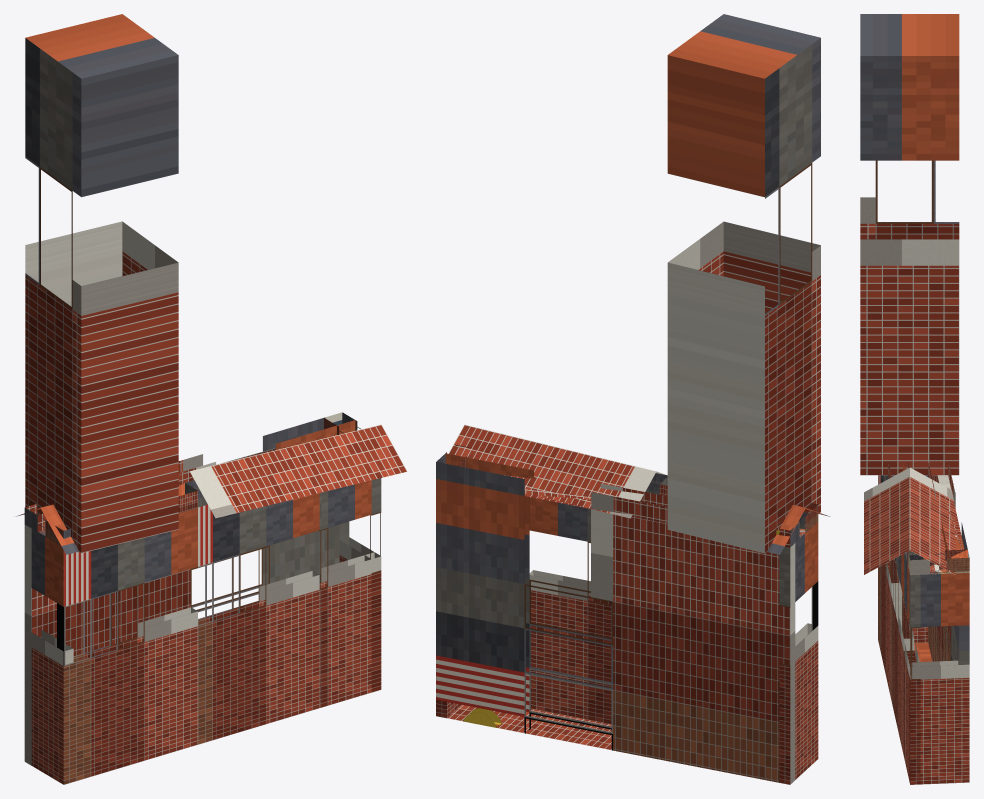
3 views of the same model, side by side, from view 1: azimuth 30°, elevation 25°; view 2: azimuth 150°, elevation 25°; view 3: azimuth 270°, elevation 25° (orthographic). The views are drawn at different scales.
Parts seen in each view (by area): view 1: 717954405__chimney_0_xb, 717954405__wall_0_xb, 717954405__wall_1_xb, 717954405__wall_4_xb, 717954405_roof_-1_xb, 717954405__wall_2_xb, 717954405__wall_5_xb, 717954405__cornice_4, 717954405__wall_3_xb; view 2: 717954405__chimney_0_xb, 717954405__wall_4_xb, 717954405__wall_1_xb, 717954405_roof_1_xb, 717954405__wall_5_xb, 717954405__cornice_4, 717954405__base; view 3: 717954405__chimney_0_xb, 717954405__wall_3_xb, 717954405_roof_-1_xb, 717954405_roof_1_xb, 717954405__wall_2_xb, 717954405__wall_1_xb, 717954405__wall_0_xb, 717954405__wall_4_xb, 717954405__cornice_3, 717954405__cornice_4, 717954405__cornice_2, 717954405__wall_5_xb (+1 smaller).
Boxes of the visible parts, <box> form: 717954405__chimney_0_xb: <box>25,14,178,553</box>; 717954405__wall_0_xb: <box>57,507,197,784</box>; 717954405__wall_1_xb: <box>197,493,319,744</box>; 717954405__wall_4_xb: <box>24,521,349,765</box>; 717954405_roof_-1_xb: <box>40,424,407,554</box>; 717954405__wall_2_xb: <box>319,480,381,707</box>; 717954405__wall_5_xb: <box>31,529,73,784</box>; 717954405__cornice_4: <box>24,412,355,531</box>; 717954405__wall_3_xb: <box>339,478,381,692</box>; 717954405__chimney_0_xb: <box>667,14,820,553</box>; 717954405__wall_4_xb: <box>436,479,795,784</box>; 717954405__wall_1_xb: <box>529,497,611,724</box>; 717954405_roof_1_xb: <box>448,424,805,554</box>; 717954405__wall_5_xb: <box>779,522,818,784</box>; 717954405__cornice_4: <box>436,453,799,547</box>; 717954405__base: <box>447,705,611,750</box>; 717954405__chimney_0_xb: <box>860,14,959,475</box>; 717954405__wall_3_xb: <box>909,569,969,784</box>; 717954405_roof_-1_xb: <box>864,467,909,574</box>; 717954405_roof_1_xb: <box>910,467,955,574</box>; 717954405__wall_2_xb: <box>904,552,920,784</box>; 717954405__wall_1_xb: <box>891,553,914,755</box>; 717954405__wall_0_xb: <box>878,475,901,700</box>; 717954405__wall_4_xb: <box>928,475,969,664</box>; 717954405__cornice_3: <box>908,549,969,574</box>; 717954405__cornice_4: <box>928,462,967,558</box>; 717954405__cornice_2: <box>905,550,929,575</box>; 717954405__wall_5_xb: <box>884,475,927,642</box>.
Size of the model in its own units: 0.5269 by 1.05 by 0.1654.
Materials: 1 (1 with a texture image).
